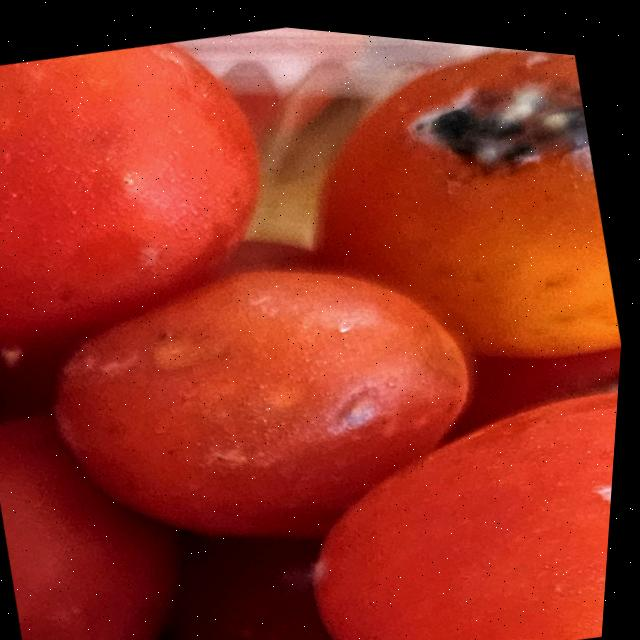rot_lvl2: (407, 68, 591, 182)
